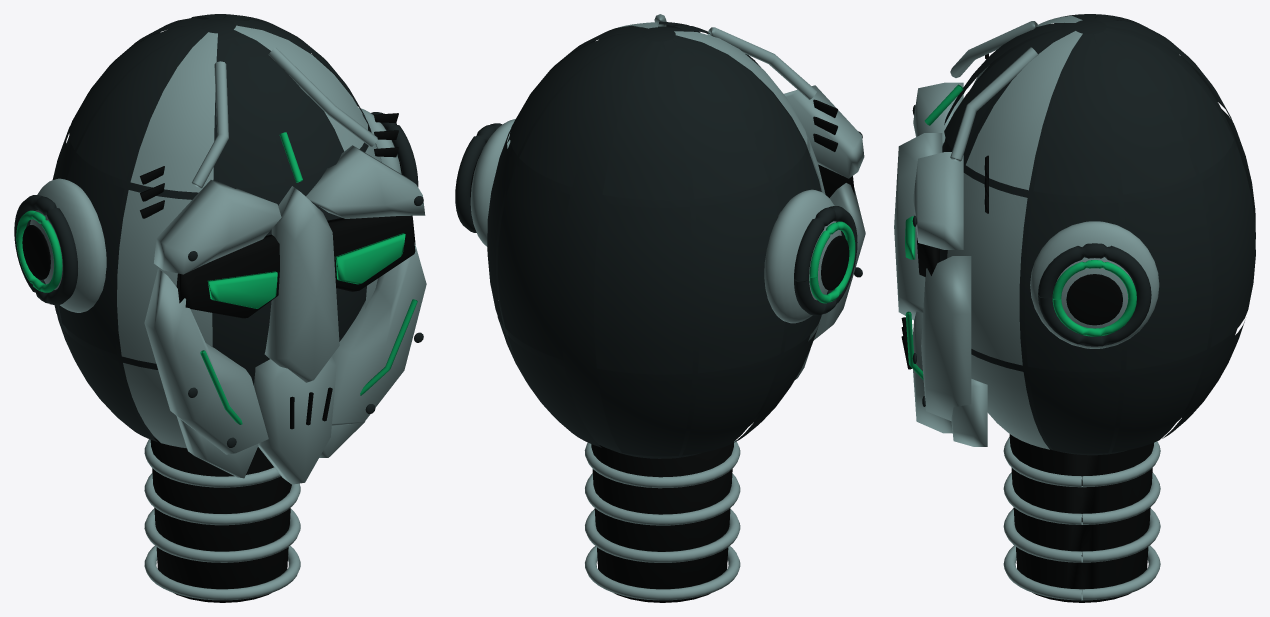
The model's file is Sivra-head.obj.
3 renders of one model, left to right at view 1: azimuth 30°, elevation 25°; view 2: azimuth 150°, elevation 25°; view 3: azimuth 270°, elevation 25°, orthographic.
Size of the model in its own units: 0.2676 by 0.3839 by 0.2294.
